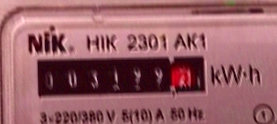0: (68, 70, 79, 89), (45, 71, 54, 89)
1: (112, 66, 121, 84)
3: (90, 70, 100, 90)
6: (178, 74, 188, 88)
9: (133, 65, 143, 85), (155, 67, 165, 85)
screen: (31, 49, 213, 104)
